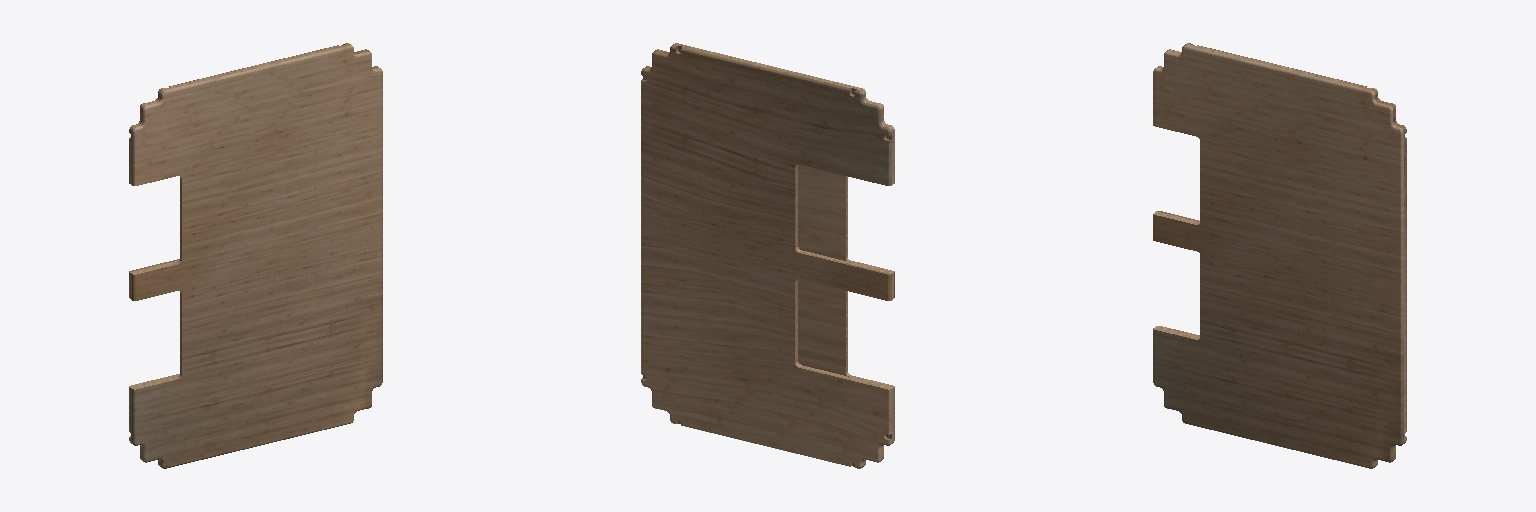
The picture shows the model from 3 angles: view 1: azimuth 30°, elevation 25°; view 2: azimuth 150°, elevation 25°; view 3: azimuth 330°, elevation 25°; orthographic projection.
Bounding box in the file's own units: 0.6816 × 0.9864 × 0.0254.
Materials: 1 (1 with a texture image).